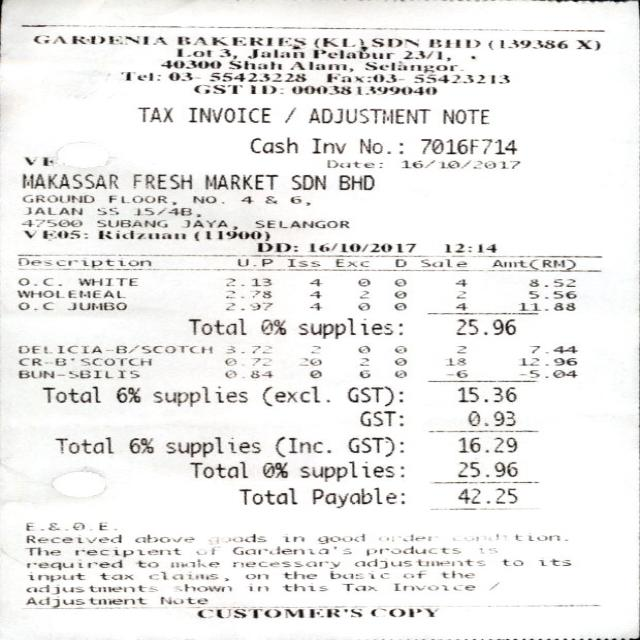text: (298, 316, 401, 338), (298, 460, 403, 481), (162, 434, 258, 456), (306, 108, 428, 124), (310, 487, 402, 508), (152, 386, 246, 406), (287, 82, 435, 94), (18, 344, 210, 353), (193, 608, 360, 618), (419, 138, 515, 154), (308, 242, 414, 256), (20, 173, 116, 188), (176, 34, 304, 45), (353, 557, 481, 568), (261, 385, 328, 406), (369, 73, 508, 83), (15, 257, 153, 267), (22, 595, 146, 606), (23, 584, 156, 594), (33, 34, 165, 44), (274, 434, 329, 456), (203, 173, 277, 189), (231, 544, 349, 554), (348, 434, 401, 456), (25, 558, 121, 570), (187, 108, 267, 122), (364, 60, 454, 72), (347, 386, 400, 406), (488, 258, 576, 270), (444, 532, 561, 541), (74, 547, 179, 557), (187, 316, 244, 334), (55, 435, 112, 453), (454, 317, 514, 334), (236, 487, 296, 504), (39, 385, 98, 402), (188, 461, 246, 478), (456, 461, 517, 477), (458, 435, 515, 452), (208, 72, 304, 82), (18, 370, 137, 378), (26, 533, 120, 543), (364, 545, 458, 555), (401, 160, 518, 168), (482, 38, 565, 49), (455, 488, 514, 503), (97, 229, 184, 239), (231, 560, 338, 568), (129, 174, 189, 188), (455, 387, 514, 401), (193, 230, 268, 241), (146, 570, 227, 580), (465, 410, 514, 426), (251, 220, 346, 228), (310, 49, 392, 58), (250, 137, 296, 153), (439, 109, 487, 124), (78, 356, 150, 366), (130, 207, 199, 217), (359, 138, 402, 154), (359, 410, 402, 426), (513, 300, 573, 311), (22, 522, 104, 530), (390, 582, 472, 590), (109, 194, 174, 204), (287, 61, 351, 71), (96, 218, 166, 227), (167, 582, 230, 592), (368, 608, 436, 617), (159, 59, 220, 69), (76, 276, 136, 286), (204, 533, 264, 543), (527, 276, 576, 288), (183, 219, 235, 230), (526, 288, 577, 299), (325, 158, 381, 168), (17, 356, 72, 366), (27, 572, 82, 582), (136, 106, 170, 122), (338, 174, 372, 190), (370, 36, 419, 47), (65, 301, 124, 310), (314, 36, 362, 47), (401, 50, 449, 61), (245, 49, 302, 58), (66, 289, 123, 298), (290, 174, 324, 189), (21, 195, 93, 202), (24, 206, 80, 215), (519, 356, 575, 365), (443, 242, 493, 252), (513, 369, 575, 377), (220, 276, 269, 286), (125, 436, 152, 454), (312, 138, 344, 153), (227, 60, 280, 69), (378, 533, 436, 541), (134, 534, 192, 542), (327, 570, 385, 578), (316, 533, 362, 543), (258, 317, 283, 335), (193, 84, 241, 93), (17, 276, 60, 286), (223, 369, 270, 378), (427, 37, 469, 47), (20, 219, 80, 226), (253, 242, 295, 252), (117, 71, 158, 81), (16, 289, 61, 298), (224, 289, 269, 298), (160, 595, 205, 604), (416, 258, 466, 266), (42, 229, 86, 238), (224, 356, 267, 365), (170, 558, 218, 566), (325, 73, 362, 83), (530, 345, 576, 353), (115, 386, 138, 402), (283, 256, 316, 267), (225, 302, 270, 310), (262, 462, 286, 477), (280, 583, 325, 591), (332, 258, 371, 267), (226, 345, 269, 353), (177, 47, 210, 57), (164, 71, 197, 81), (23, 546, 59, 555), (248, 85, 282, 94), (18, 301, 50, 310), (22, 154, 50, 164), (576, 38, 599, 50), (238, 258, 272, 266), (340, 582, 374, 590), (282, 571, 315, 579), (441, 570, 473, 578), (99, 572, 131, 580), (191, 195, 222, 203), (538, 557, 568, 565), (194, 545, 219, 554), (475, 545, 498, 554), (299, 356, 320, 365), (442, 356, 463, 365), (135, 560, 157, 568), (446, 369, 465, 378), (354, 277, 371, 287), (389, 289, 406, 299), (450, 301, 467, 311), (402, 570, 423, 578), (390, 276, 405, 287), (391, 300, 406, 311), (501, 557, 520, 565), (354, 300, 369, 310), (96, 207, 117, 214), (243, 573, 266, 579), (391, 257, 404, 267), (283, 535, 301, 542), (219, 47, 229, 59), (354, 345, 369, 353), (286, 194, 299, 203), (392, 356, 405, 365), (392, 369, 405, 378), (248, 585, 266, 591), (358, 290, 371, 298), (392, 345, 405, 353), (21, 229, 32, 238), (455, 277, 466, 286), (309, 369, 320, 378), (358, 369, 369, 378), (239, 196, 252, 203), (263, 196, 276, 203), (357, 356, 366, 366), (309, 277, 320, 285), (309, 302, 320, 310), (453, 345, 464, 353), (309, 291, 320, 298), (310, 345, 319, 353), (455, 291, 464, 298), (637, 597, 638, 600)
